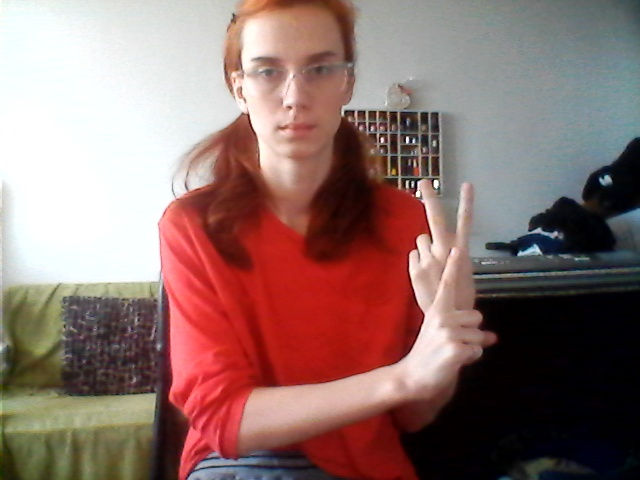y: (382, 174, 519, 428)
